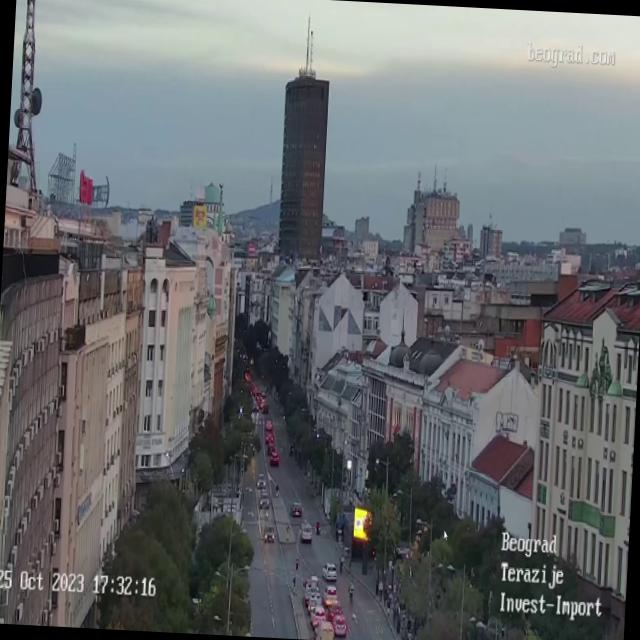car: (313, 617, 334, 640), (332, 612, 348, 640), (308, 602, 326, 626), (322, 561, 338, 580), (302, 519, 314, 543), (290, 503, 304, 520), (324, 587, 338, 604), (259, 493, 271, 512), (258, 472, 268, 491), (262, 527, 274, 542), (269, 452, 278, 468), (268, 442, 278, 455), (266, 414, 273, 429)
truck: (304, 576, 319, 602)
